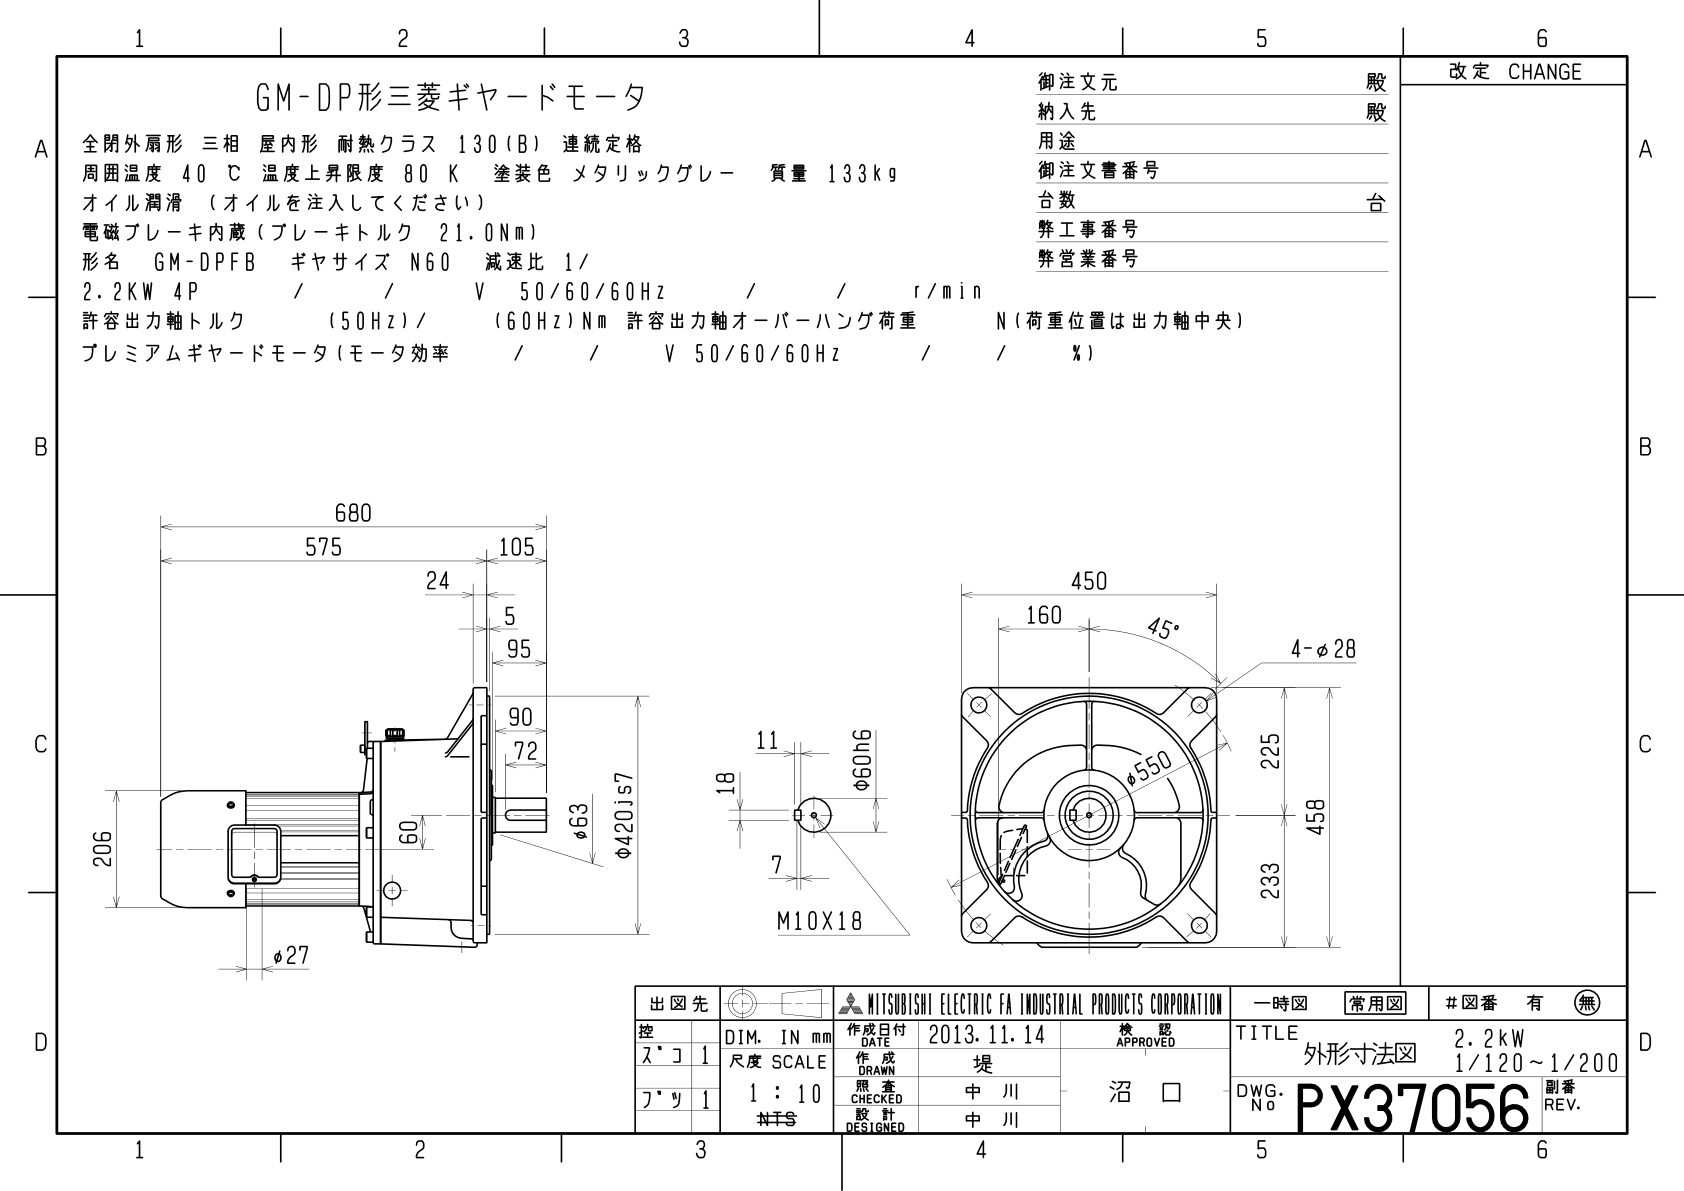GM_DP_屋内_三相_フランジ: (1, 1, 1680, 1176)
